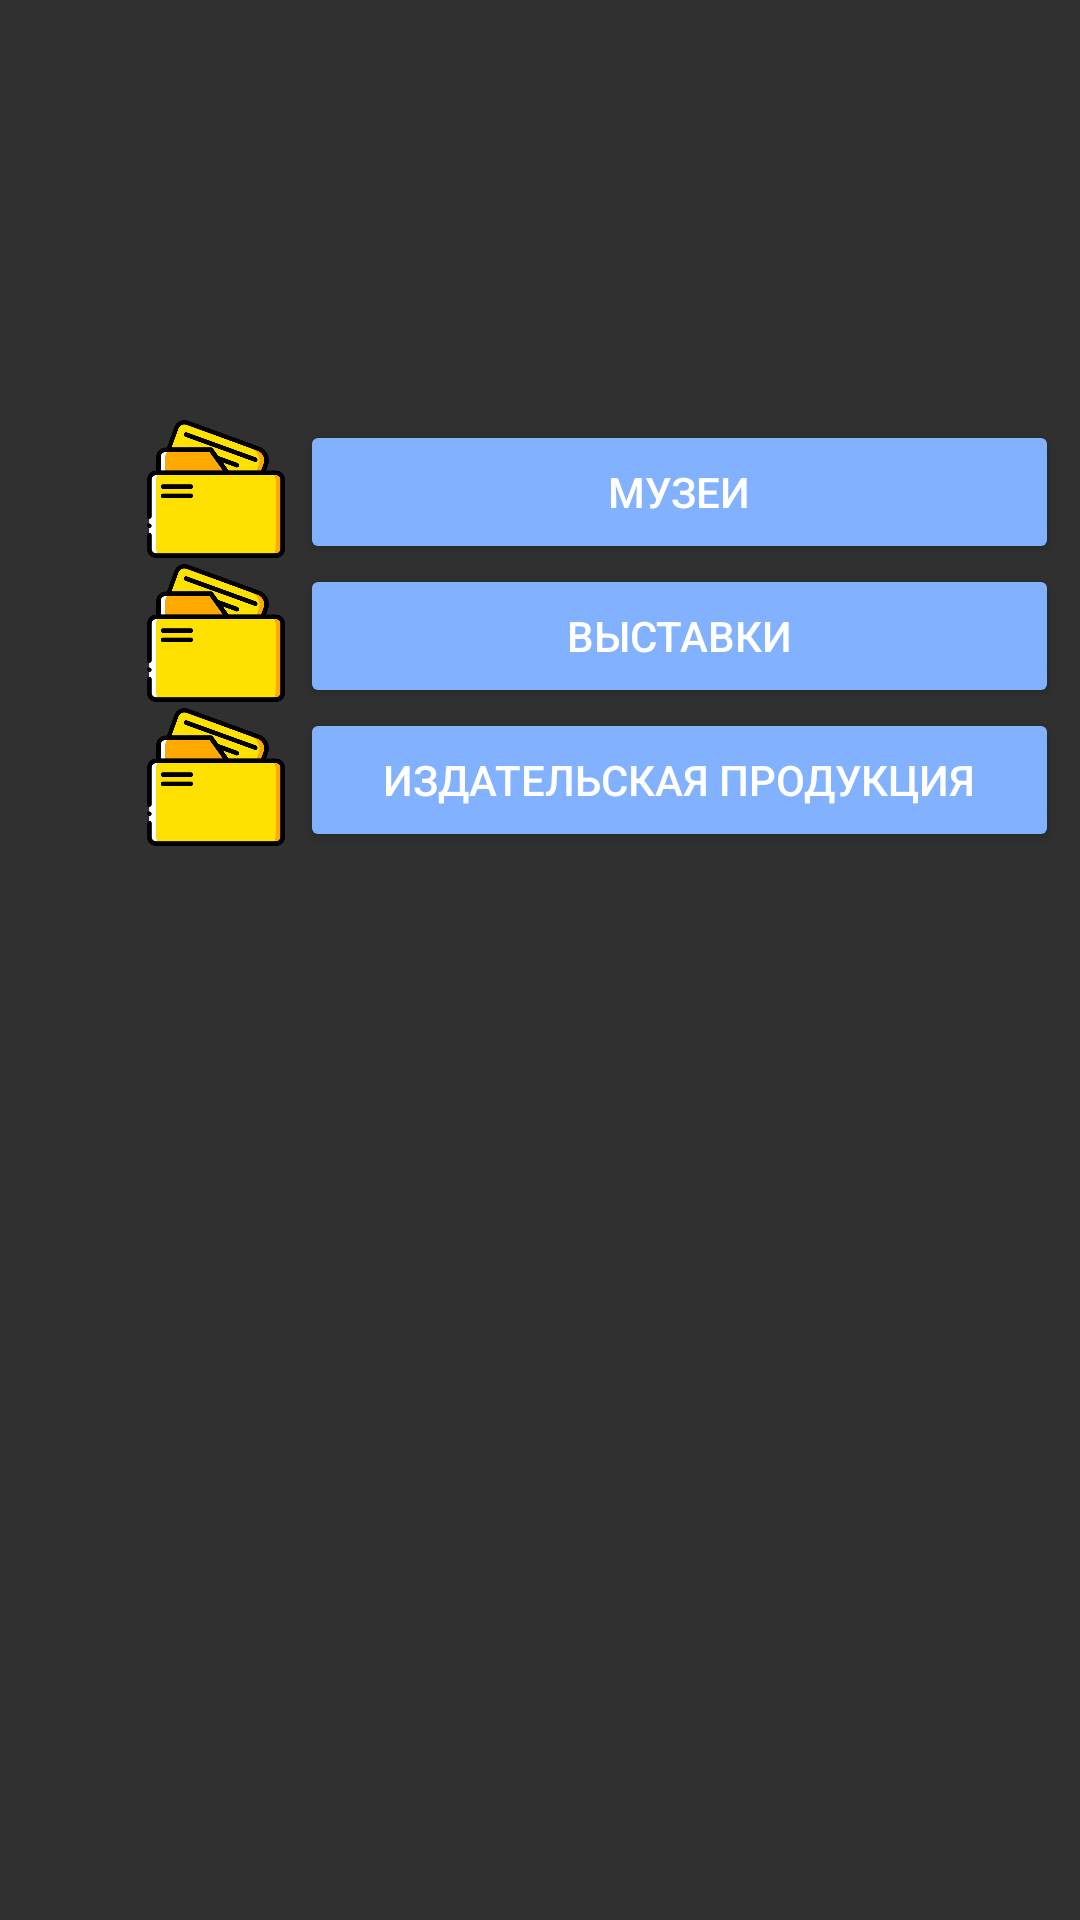

Locate icon controls on the screen. Image size 1080 x 1920, boxes as (x1, y1, x2, y2).
files: (147, 420, 285, 558), (147, 564, 285, 702), (147, 708, 285, 846)
